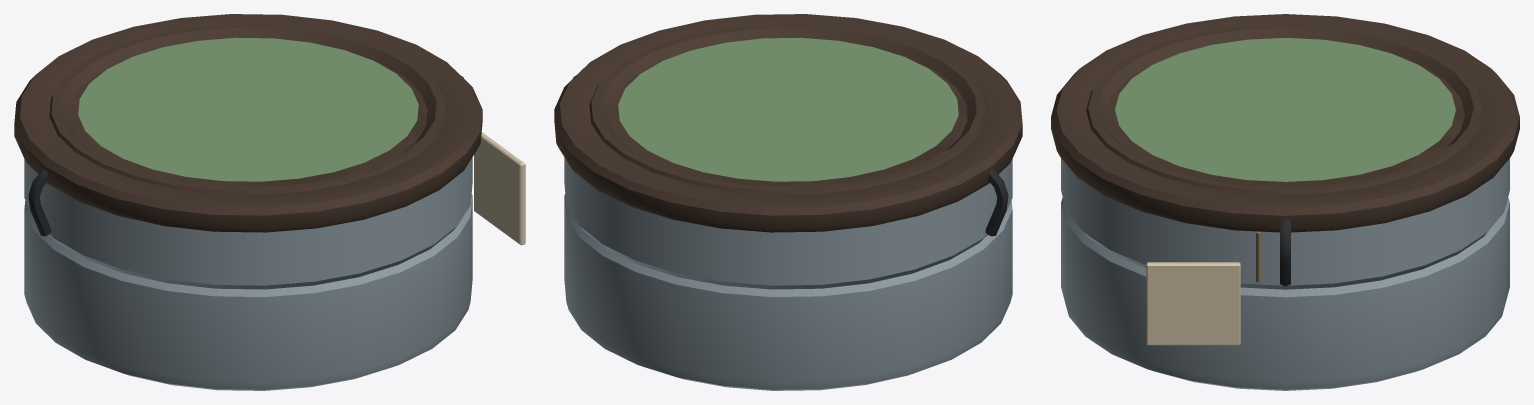
Rendered from film_can_4.glb.
The picture shows the model from 3 angles, left to right: view 1: azimuth 30°, elevation 25°; view 2: azimuth 150°, elevation 25°; view 3: azimuth 270°, elevation 25°; orthographic projection.
Parts seen in each view (by area): view 1: film_can_4; view 2: film_can_4; view 3: film_can_4.
Boxes of the visible parts, left/top/right/bottom form: film_can_4: left=14, top=14, right=525, bottom=390; film_can_4: left=554, top=14, right=1022, bottom=390; film_can_4: left=1051, top=14, right=1519, bottom=390.
Size of the model in its own units: 0.226 by 0.0955 by 0.209.
